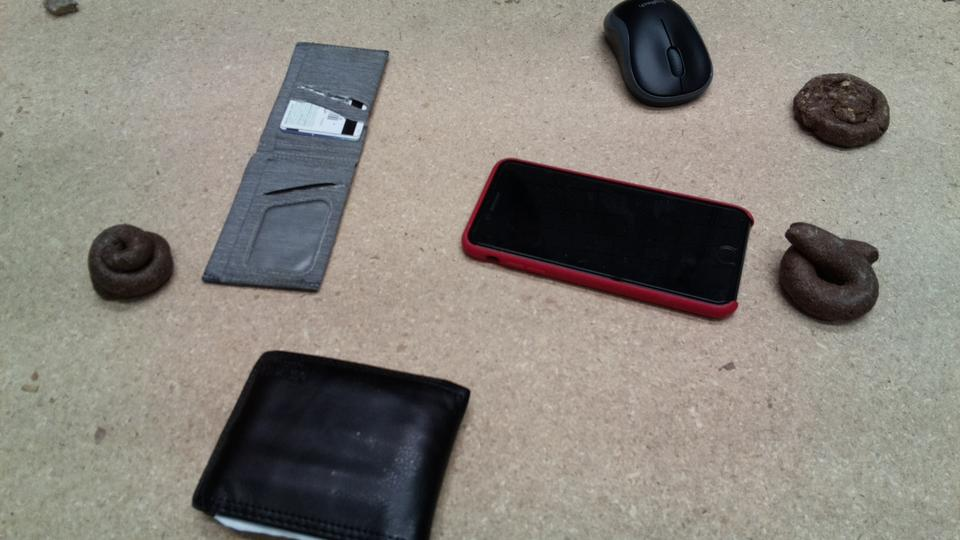poop: (774, 219, 882, 329), (788, 71, 893, 151), (87, 221, 175, 307)
